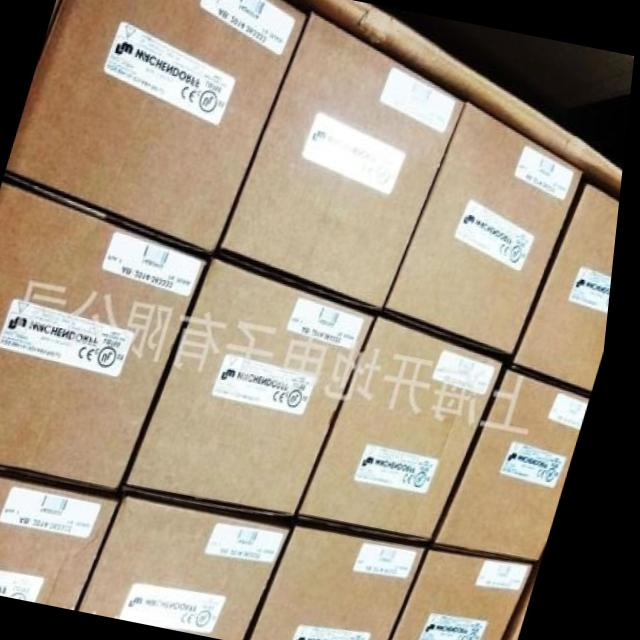box: (9, 0, 306, 256), (224, 12, 468, 310), (0, 181, 213, 492), (136, 259, 382, 518), (392, 103, 586, 356), (309, 319, 511, 541), (92, 495, 302, 640), (445, 368, 598, 562), (519, 182, 623, 391), (263, 527, 438, 640), (0, 475, 129, 611), (406, 548, 547, 640)
